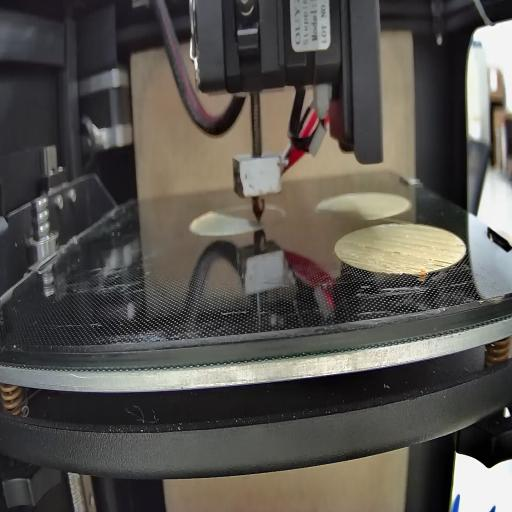under_extrusion: (348, 241, 382, 254), (421, 258, 451, 270), (388, 249, 410, 258), (342, 254, 360, 262), (452, 242, 466, 252), (379, 260, 393, 270), (403, 266, 419, 271), (371, 256, 377, 266)
